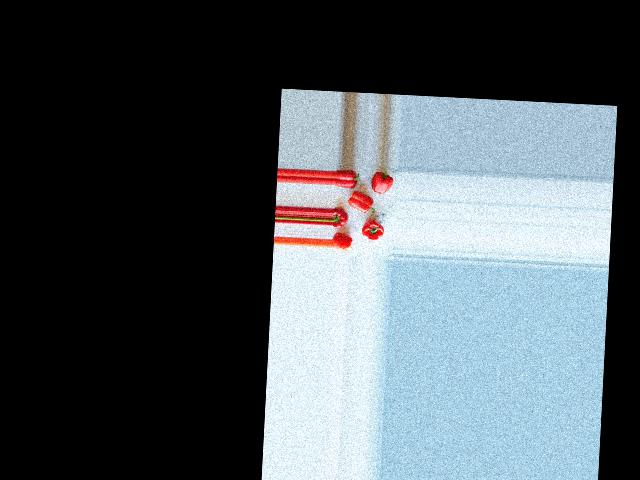bell_pepper: (332, 206, 349, 228)
